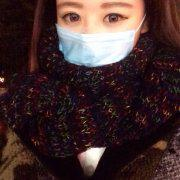OK: (57, 4, 143, 82)
